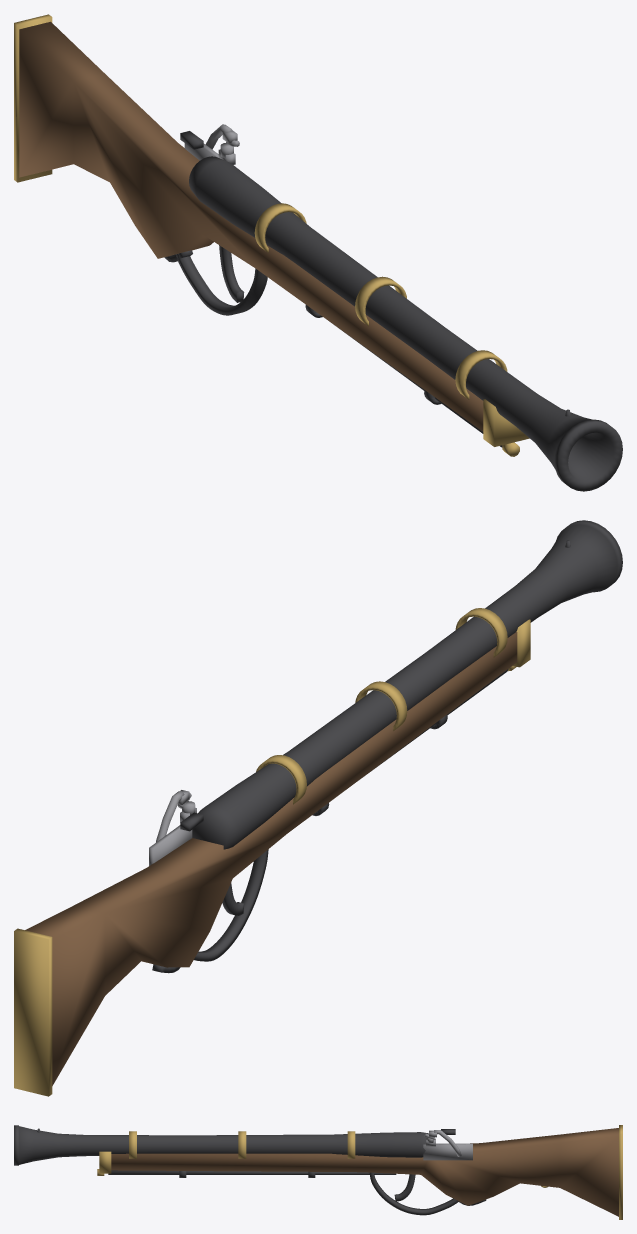
Rendered from Musket.fbx.
3 views of the same model, one above another, from view 1: azimuth 30°, elevation 25°; view 2: azimuth 150°, elevation 25°; view 3: azimuth 270°, elevation 25° (orthographic). The views are drawn at different scales.
Visible parts, largest first — view 1: musket_stock, musket_barrel, musket_fittings, musket_trigger, musket_bands, musket_lock; view 2: musket_stock, musket_barrel, musket_fittings, musket_bands, musket_trigger, musket_lock; view 3: musket_stock, musket_barrel, musket_ramrod, musket_lock, musket_trigger, musket_bands, musket_fittings.
Boxes of the visible parts, <box> form: musket_stock: <box>19,21,483,431</box>; musket_barrel: <box>180,131,622,491</box>; musket_fittings: <box>14,14,529,456</box>; musket_trigger: <box>164,245,267,315</box>; musket_bands: <box>254,203,507,399</box>; musket_lock: <box>184,124,239,164</box>; musket_stock: <box>25,632,517,1085</box>; musket_barrel: <box>180,520,622,849</box>; musket_fittings: <box>14,619,530,1096</box>; musket_bands: <box>256,608,507,804</box>; musket_trigger: <box>152,849,268,973</box>; musket_lock: <box>149,790,196,865</box>; musket_stock: <box>111,1128,618,1216</box>; musket_barrel: <box>14,1125,455,1165</box>; musket_ramrod: <box>108,1170,396,1177</box>; musket_lock: <box>423,1130,472,1160</box>; musket_trigger: <box>369,1172,486,1215</box>; musket_bands: <box>129,1131,355,1158</box>; musket_fittings: <box>97,1125,622,1219</box>.
Bounding box in the file's own units: 0.081 × 0.2038 × 1.23.
